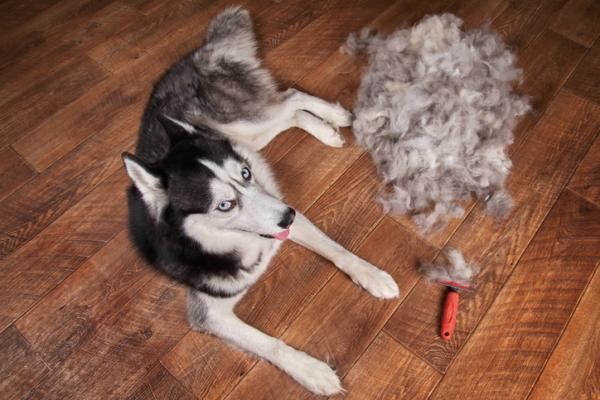husky: (108, 15, 393, 385)
